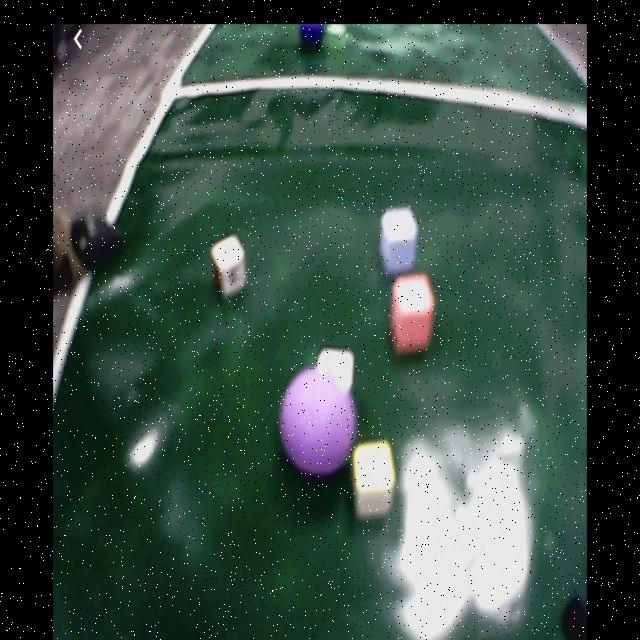ball: (283, 370, 355, 471), (297, 26, 328, 46)
